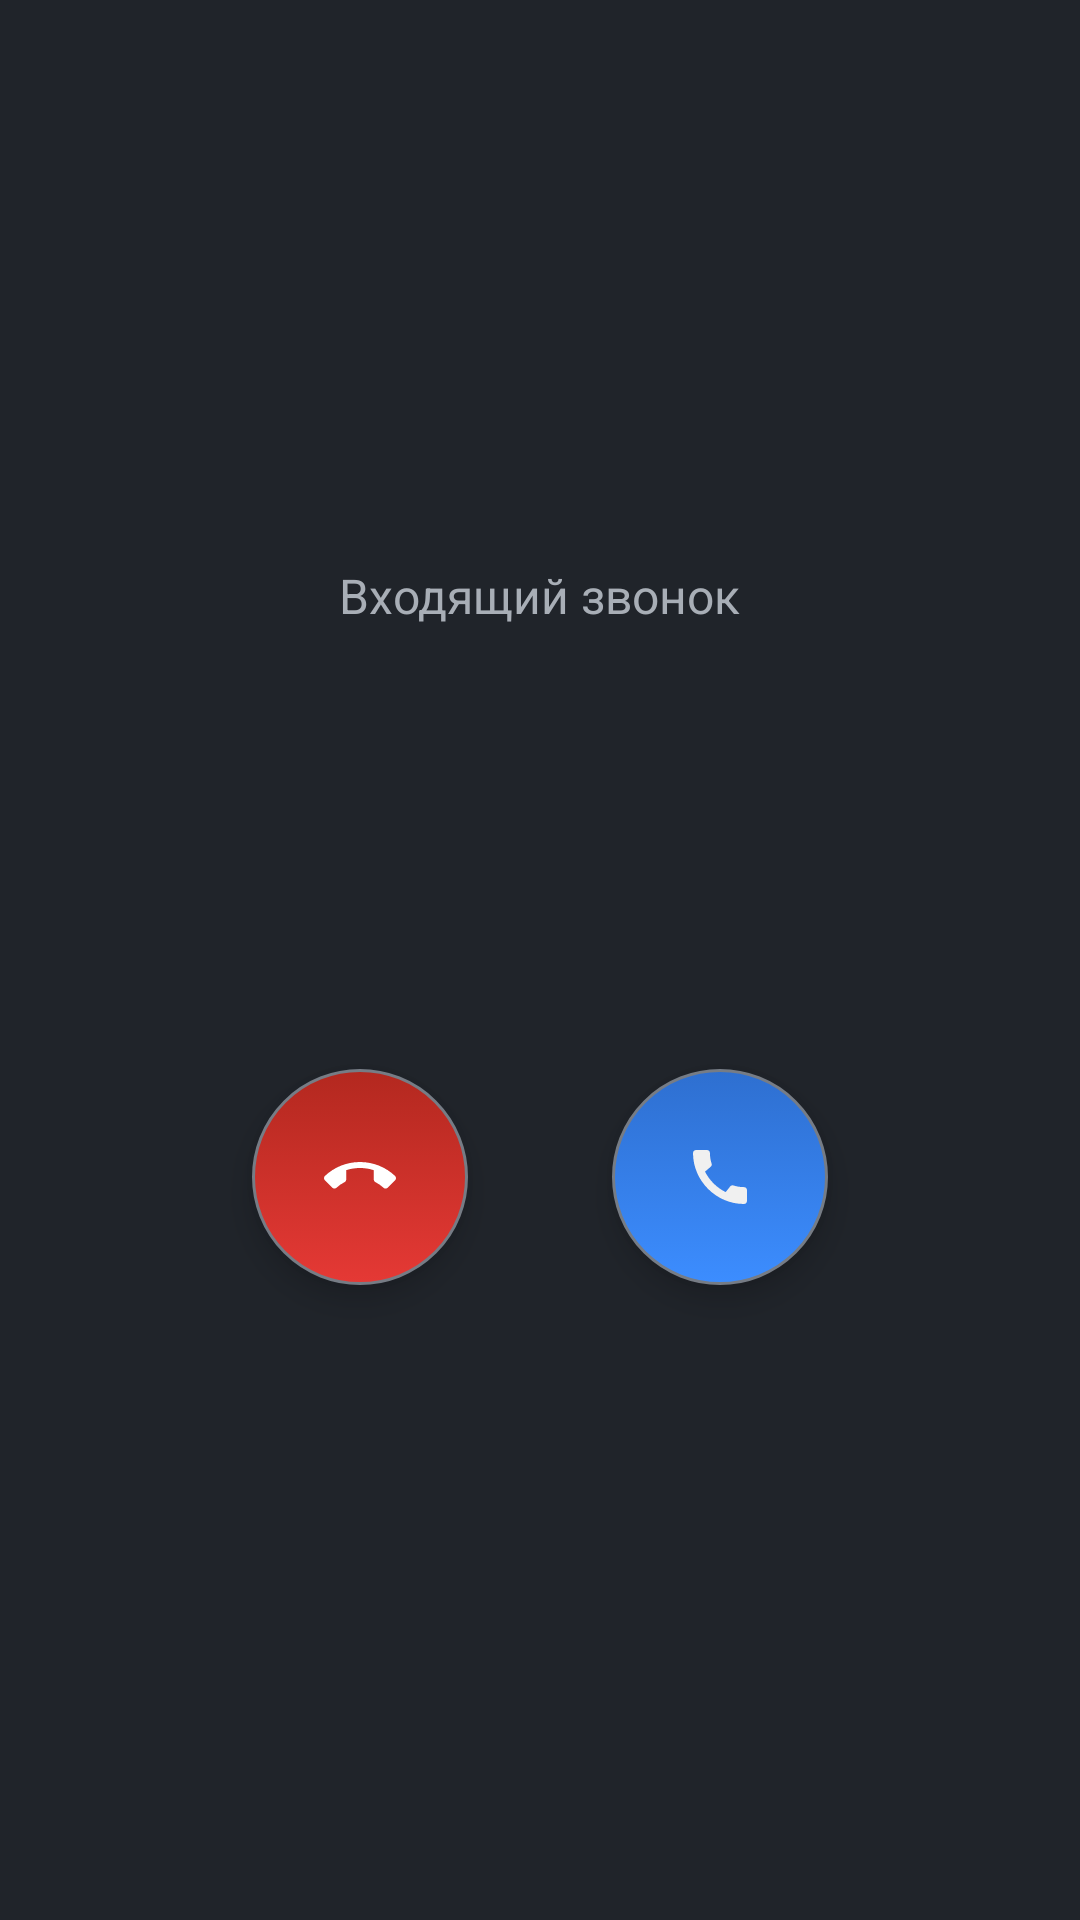

Named icons in this screenshot (1080w x 1920h) and their centers, (x,y):
Ответить: (720,1177)
Отклонить: (360,1177)
